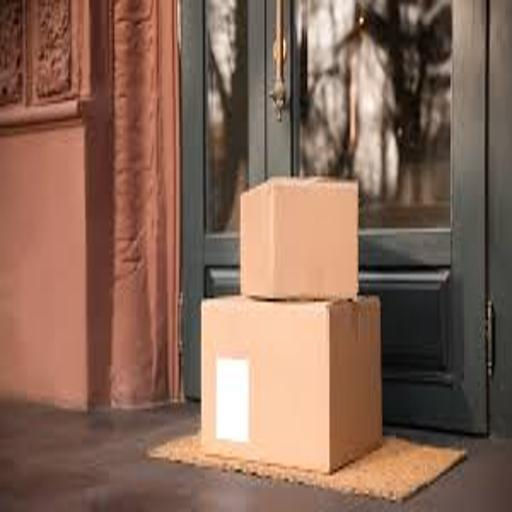Other: (195, 294, 395, 478), (236, 175, 371, 303)
